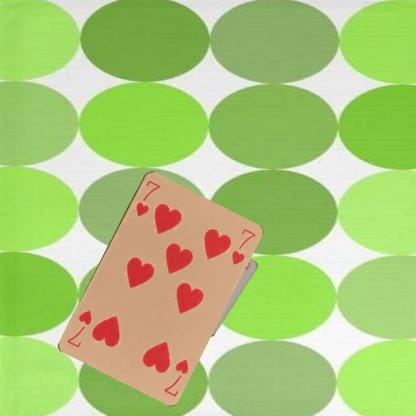7h: (161, 356, 190, 397), (133, 178, 162, 218)
